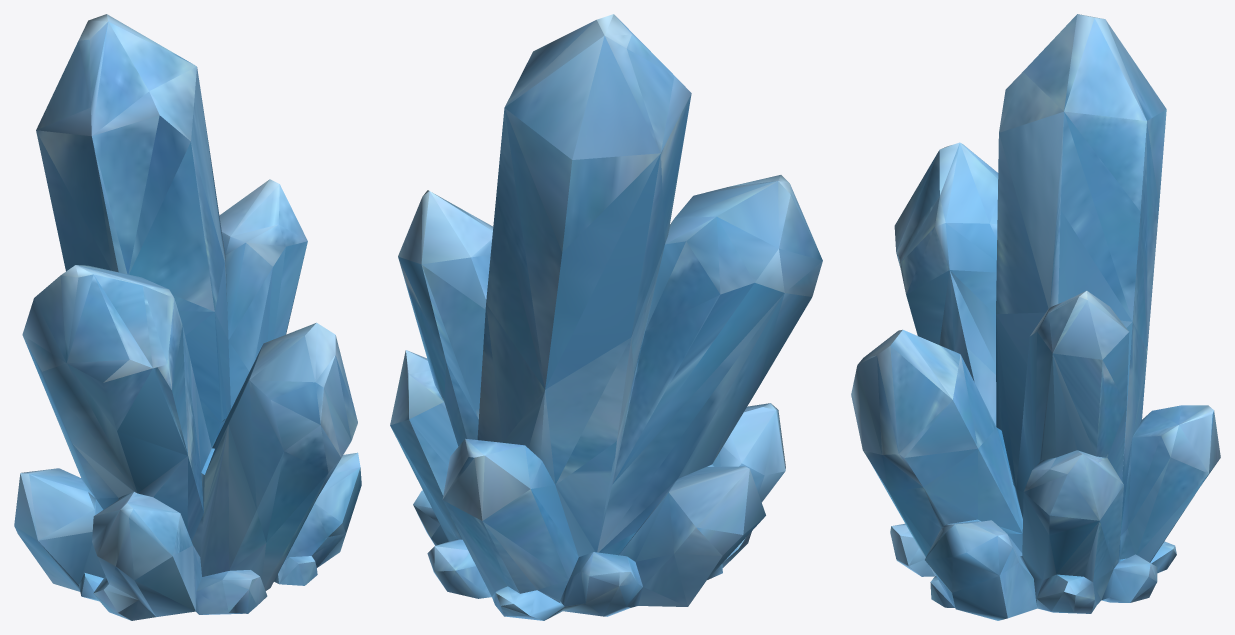
File: racimo_hielo_g_700.glb
3 renders of one model, left to right at view 1: azimuth 30°, elevation 25°; view 2: azimuth 150°, elevation 25°; view 3: azimuth 270°, elevation 25°, orthographic. The views are drawn at different scales.
Parts seen in each view (by area): view 1: racimo_hielo_g_malla; view 2: racimo_hielo_g_malla; view 3: racimo_hielo_g_malla.
Part boxes in pixels (<box>): racimo_hielo_g_malla: <box>14,14,361,620</box>; racimo_hielo_g_malla: <box>390,14,822,620</box>; racimo_hielo_g_malla: <box>851,14,1220,620</box>.
Size of the model in its own units: 0.1912 by 0.3062 by 0.1938.
1 material, 1 textured.
